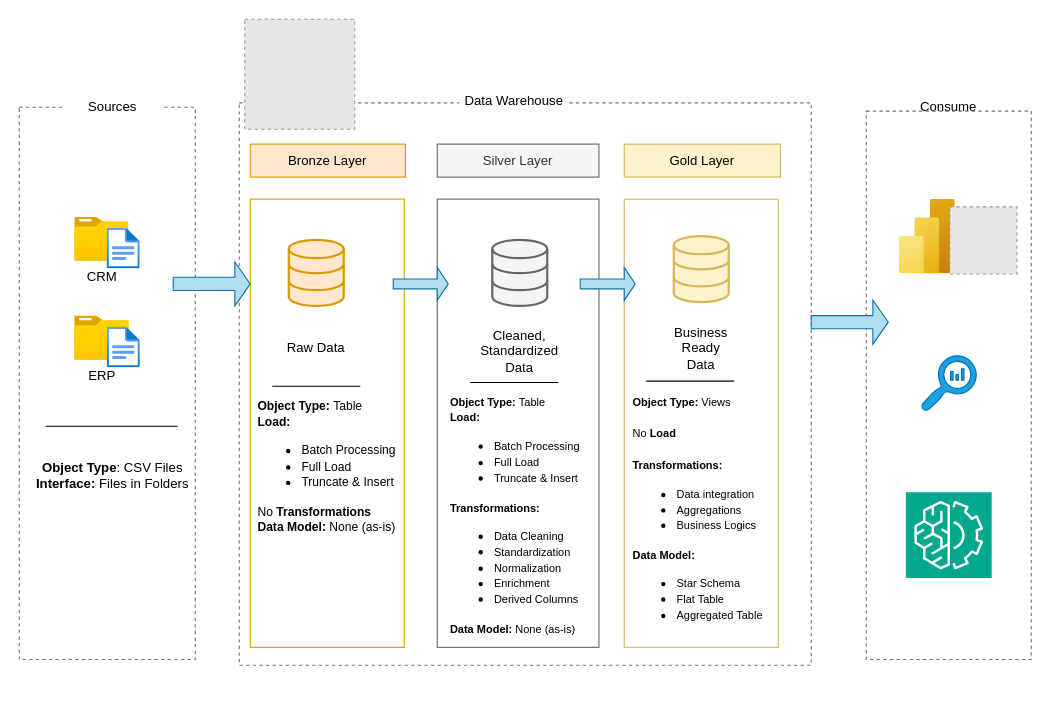
The diagram is 1051 pixels wide and 703 high, and some of its shapes have lost their labels. Grey dashed boxes stand in for pictures. The centre of each missing label's shape, as x and y in pixels:
Ad-Hoc SQL Queries: (x=948, y=383)
BI & Reporting: (x=927, y=236)
Machine Learning: (x=948, y=534)
